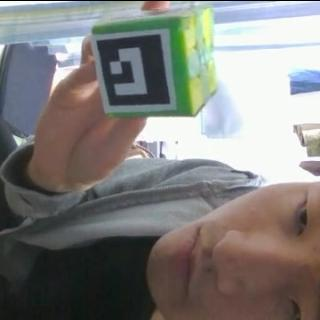armor: (92, 28, 176, 112)
robot: (90, 7, 218, 118)
